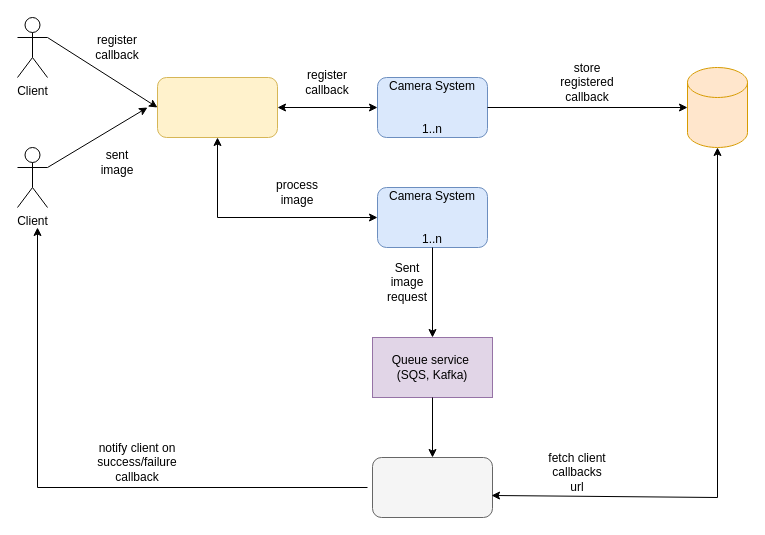
The diagram is 765 pixels wide and 535 high, and some of its shapes have lost their labels. The shapes that lost their labels are listed below. From the top down, each one's centre as x and y in pixels, then its label:
At (217,107): "Application Load Balancer".
At (717,107): "DB".
At (432,487): "Consumer service".
